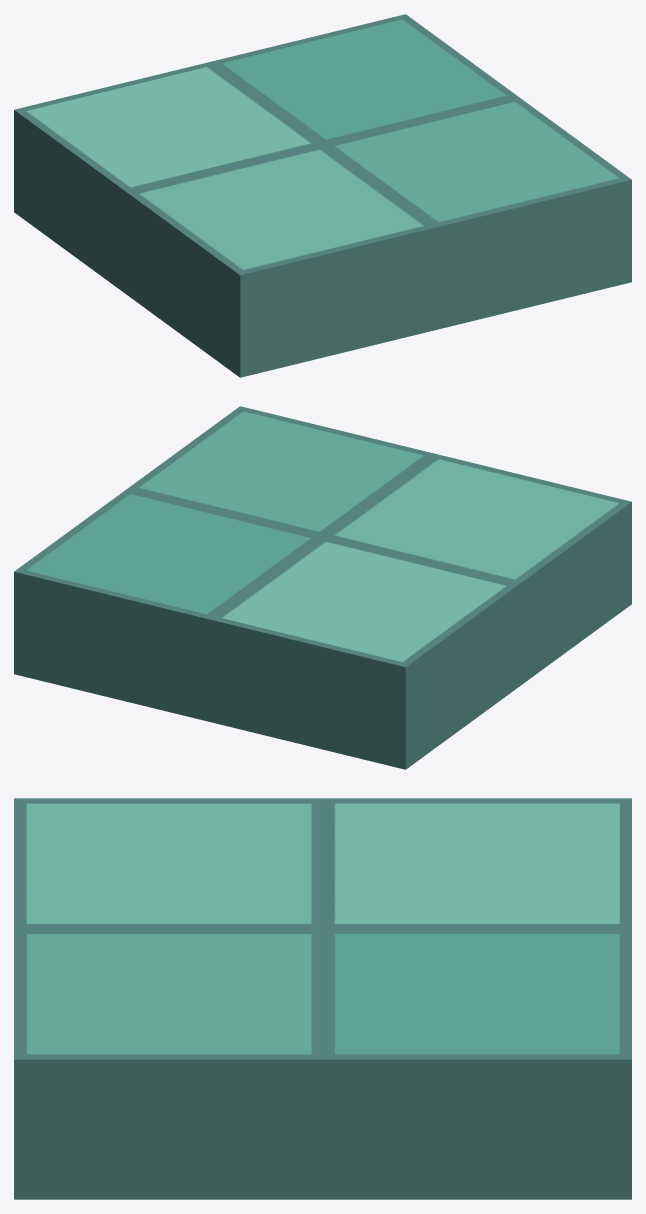
File: TileFloor.fbx
The picture shows the model from 3 angles, top to bottom: view 1: azimuth 30°, elevation 25°; view 2: azimuth 150°, elevation 25°; view 3: azimuth 270°, elevation 25°; orthographic projection. The views are drawn at different scales.
Visible parts, largest first — view 1: Procedural Tiles.009; view 2: Procedural Tiles.009; view 3: Procedural Tiles.009.
Boxes of the visible parts, x1,y1,x2,y2 form: Procedural Tiles.009: (14,14,631,377); Procedural Tiles.009: (14,406,631,769); Procedural Tiles.009: (14,798,631,1199).
Bounding box in the file's own units: 400 × 100 × 400.
1 material, 1 textured.
